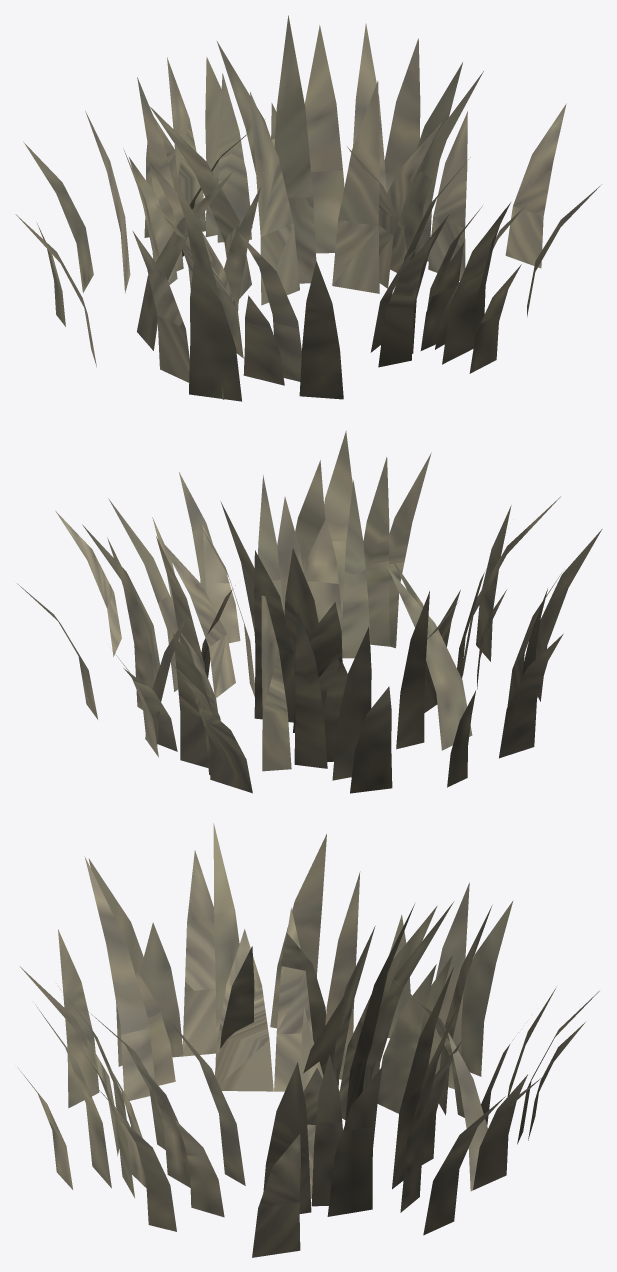
Rendered from grass_tuft_dry_01.glb.
3 views of the same model, one above another, from view 1: azimuth 30°, elevation 25°; view 2: azimuth 150°, elevation 25°; view 3: azimuth 270°, elevation 25° (orthographic). The views are drawn at different scales.
Visible parts, largest first — view 1: grass_tuft_dry_01; view 2: grass_tuft_dry_01; view 3: grass_tuft_dry_01.
Part boxes in pixels (x1,y1,x2,y2): grass_tuft_dry_01: (15,15,601,401); grass_tuft_dry_01: (17,430,602,793); grass_tuft_dry_01: (18,823,599,1257).
Size of the model in its own units: 0.5356 by 0.2295 by 0.4662.
Materials: 1 (1 with a texture image).
